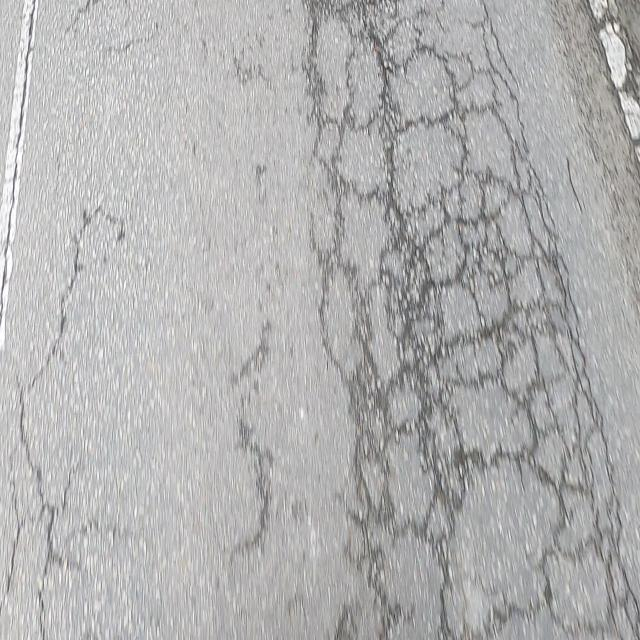Retak-Buaya: (309, 0, 640, 640)
Retak-Memanjang: (18, 201, 96, 635)
